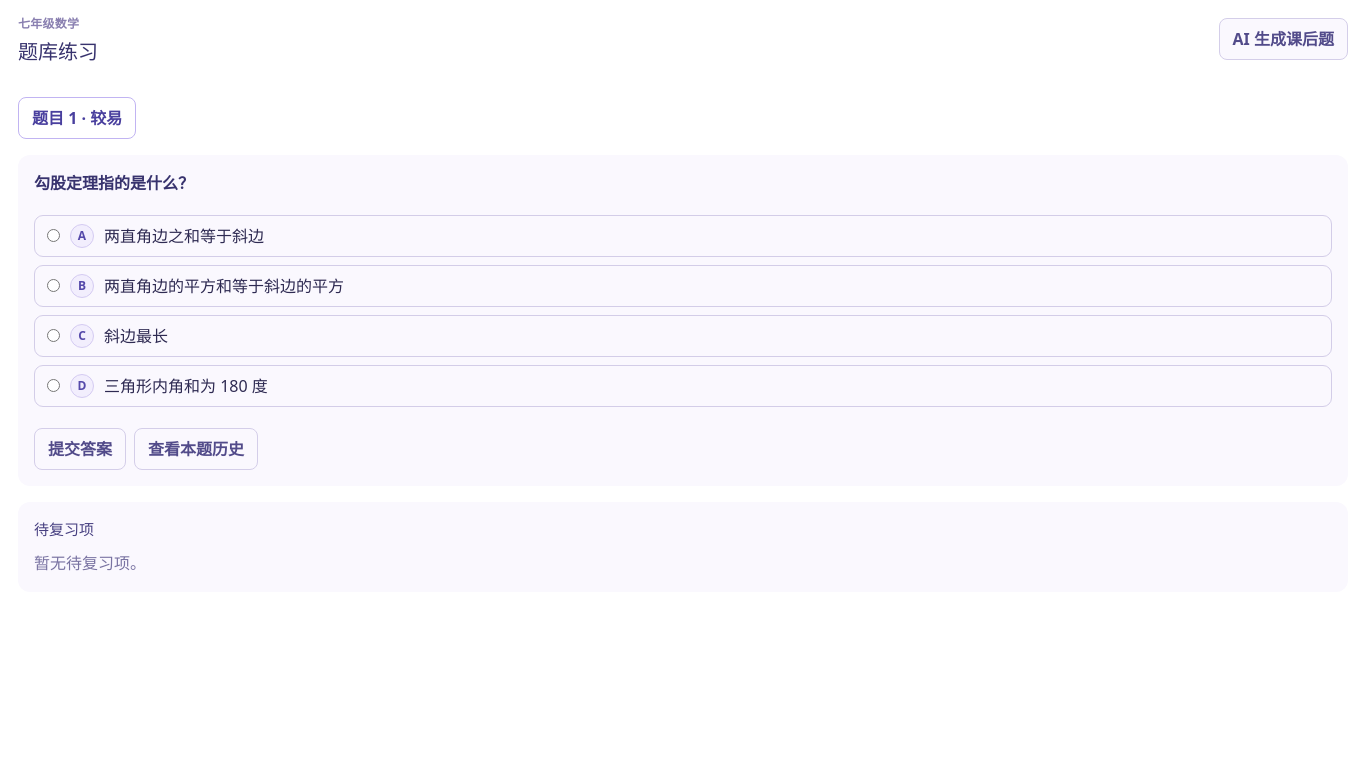
Test: QuestionBankPanel › renders choice questions, reveals the correct answer and explanation after submitting
Expected: the text "勾股定理指的是什么？" is shown, [34,172,194,194]
Expected: the element named "选项" is shown, [34,215,1332,407]
Click the radio button labelled "B 两直角边的平方和等于斜边的平方": (54, 286) [47,279,60,292]
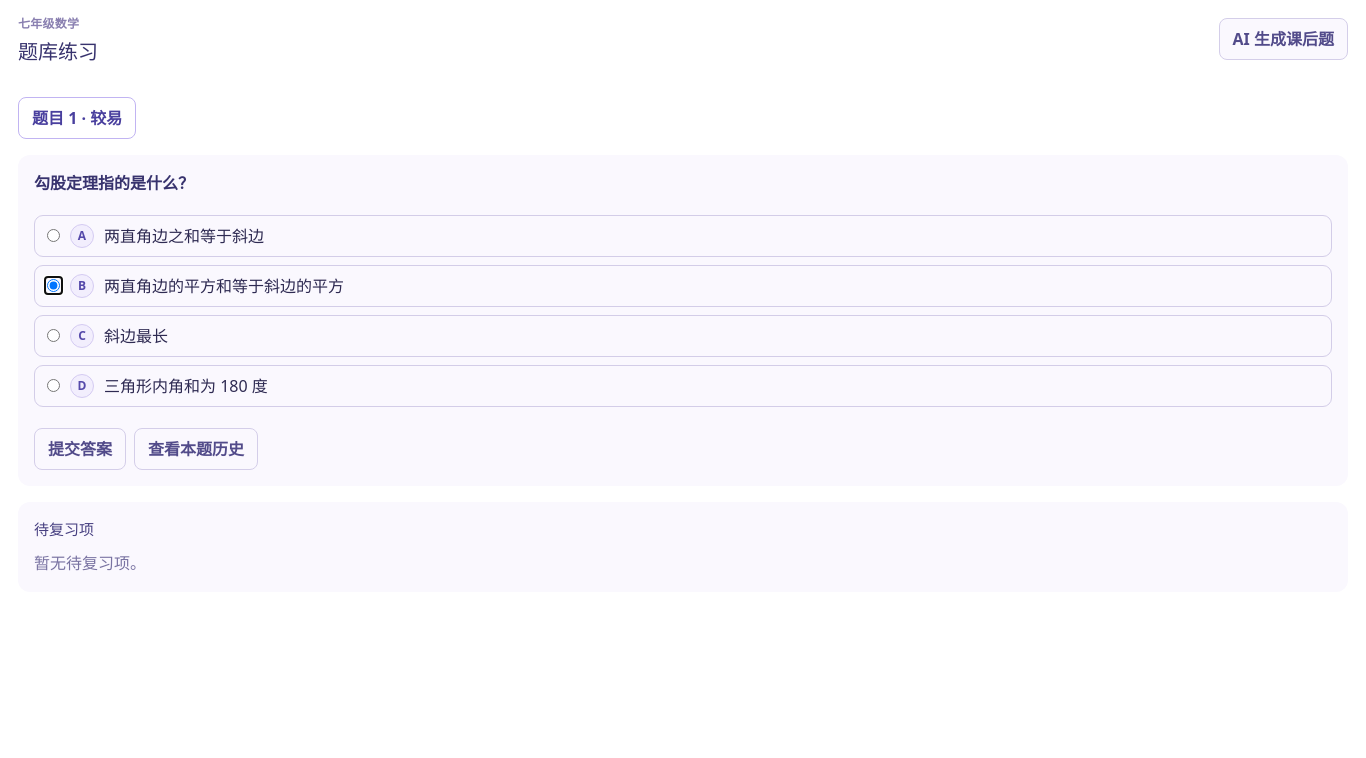
Click the button "提交答案": (80, 449) [34,428,126,470]
(page scrolled)
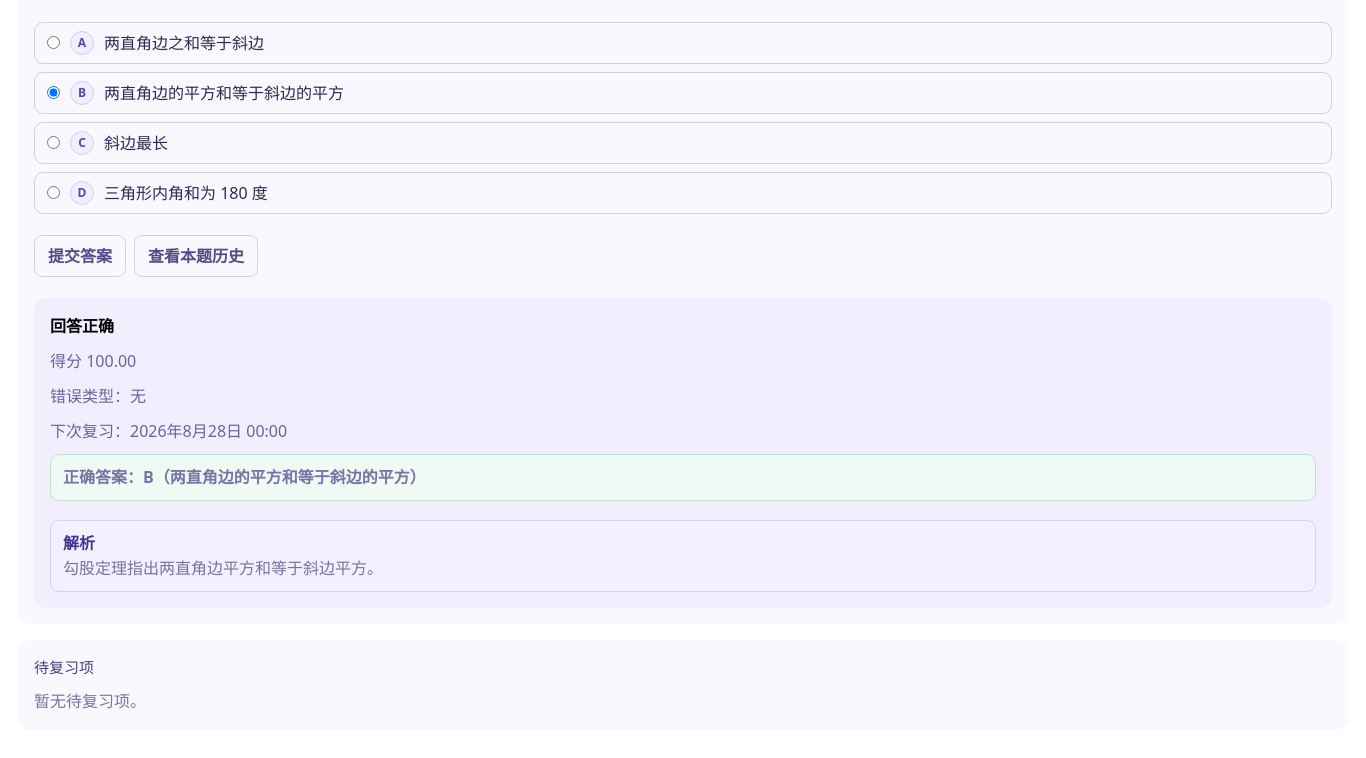
Now the text "回答正确" is shown, box [50,315,114,337]
Now the text "正确答案：B（两直角边的平方和等于斜边的平方）" is shown, box [50,454,1316,501]
Now the element named "答案解析" shows "勾股定理指出两直角边平方和等于斜边平方。", box [63,557,383,579]
